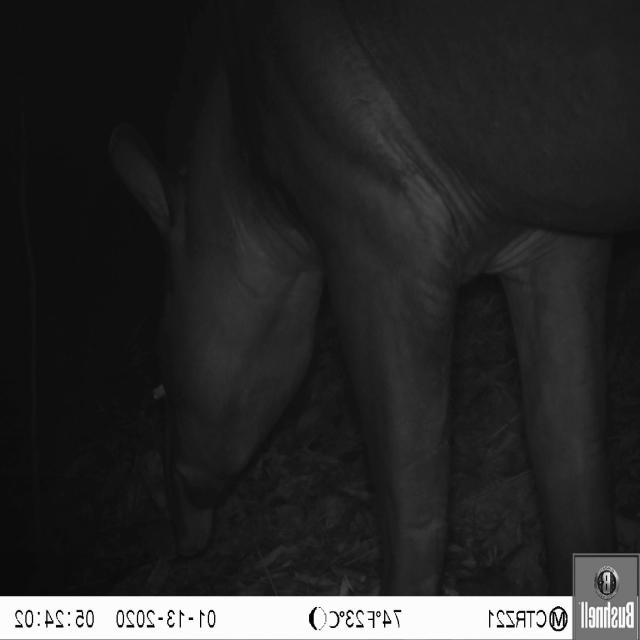Lowland Tapir: (102, 4, 638, 592)
